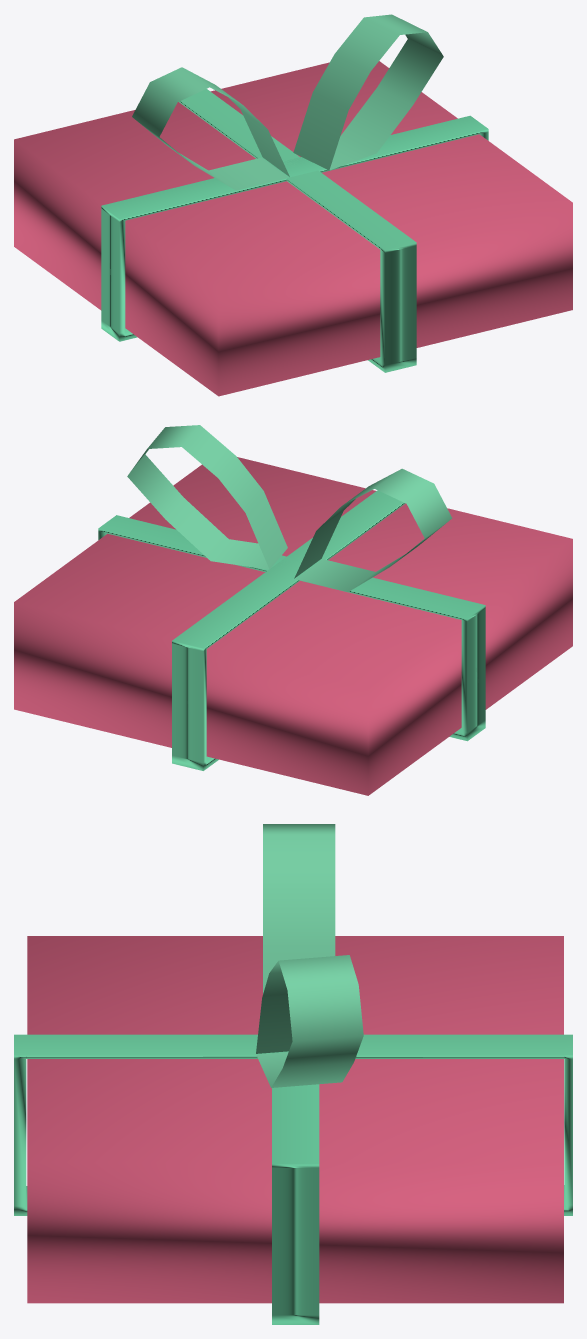
File: giftbox.fbx
3 views of the same model, one above another, from view 1: azimuth 30°, elevation 25°; view 2: azimuth 150°, elevation 25°; view 3: azimuth 270°, elevation 25° (orthographic). The views are drawn at different scales.
Visible parts, largest first — view 1: Cube, Plane_001, Cube_001, Cube_002, Plane; view 2: Cube, Cube_001, Plane_001, Cube_002, Plane; view 3: Cube, Cube_001, Plane_001, Cube_002, Plane.
Part boxes in pixels (x1=…): Cube: x1=14, y1=61, x2=572, y2=396; Plane_001: x1=293, y1=14, x2=443, y2=170; Cube_001: x1=179, y1=89, x2=416, y2=372; Cube_002: x1=101, y1=115, x2=488, y2=341; Plane: x1=132, y1=67, x2=289, y2=190; Cube: x1=14, y1=457, x2=572, y2=795; Cube_001: x1=172, y1=490, x2=405, y2=770; Plane_001: x1=127, y1=425, x2=287, y2=569; Cube_002: x1=98, y1=515, x2=485, y2=741; Plane: x1=294, y1=468, x2=452, y2=591; Cube: x1=27, y1=936, x2=563, y2=1303; Cube_001: x1=14, y1=1034, x2=572, y2=1215; Plane_001: x1=256, y1=955, x2=363, y2=1087; Cube_002: x1=272, y1=1051, x2=319, y2=1324; Plane: x1=263, y1=824, x2=335, y2=993.
Bounding box in the file's own units: 4.17 × 2.54 × 4.17.
